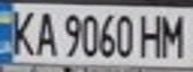0: (115, 10, 139, 58), (78, 10, 100, 58)
6: (96, 10, 121, 58)
9: (57, 9, 81, 58)
A: (30, 7, 60, 57)
H: (136, 10, 166, 58)
K: (3, 6, 39, 56)
M: (157, 10, 190, 58)
